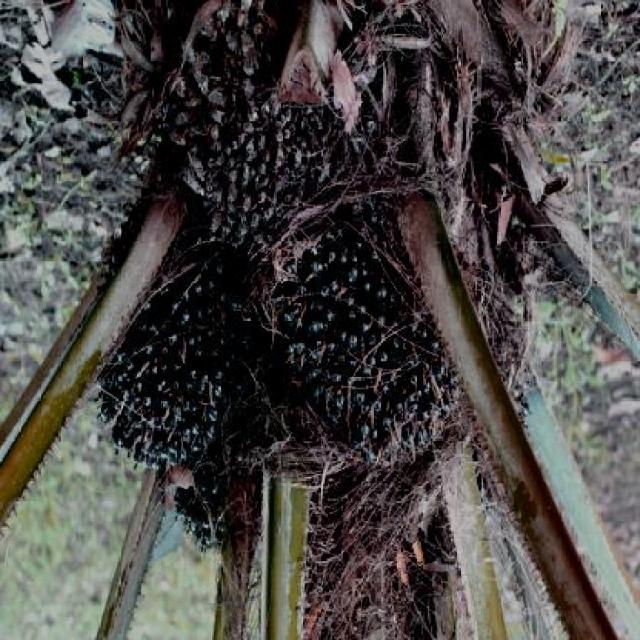palm-oil: (263, 235, 455, 452), (101, 244, 233, 473), (205, 77, 356, 236), (166, 425, 290, 542)
